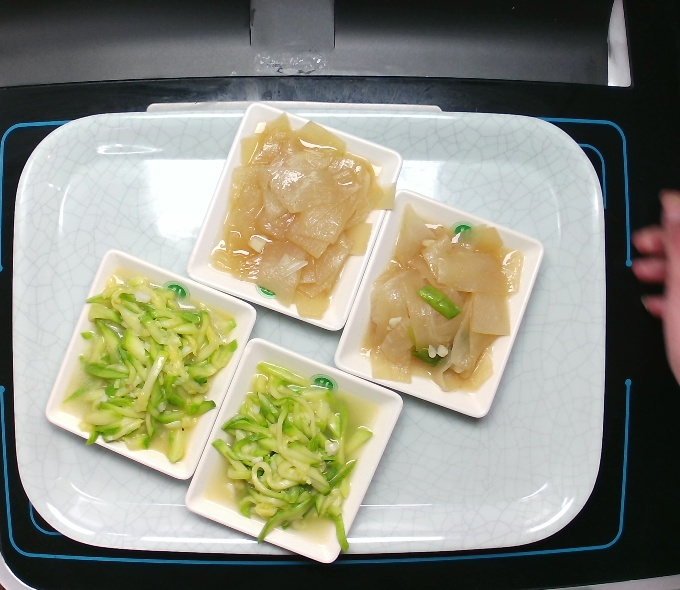wcq-LuoBo: (201, 113, 393, 320), (354, 195, 523, 391)
wcq-NenNanGua: (60, 273, 241, 477), (220, 352, 373, 565)
